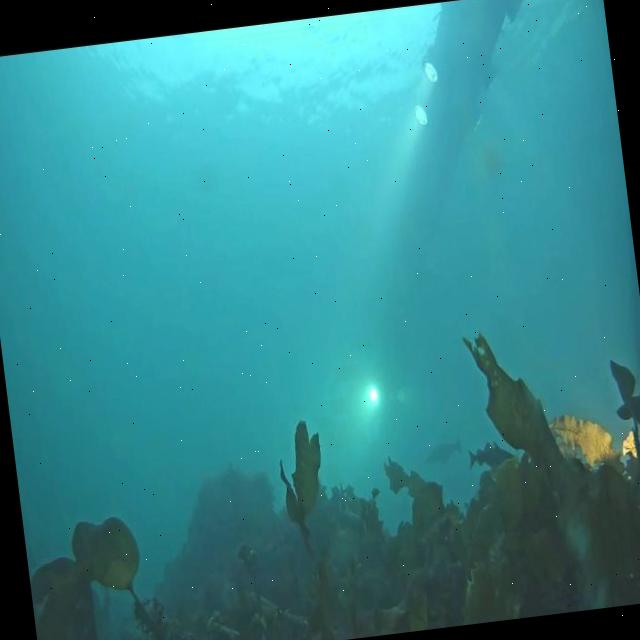fish: (420, 436, 464, 472), (464, 438, 511, 468)
